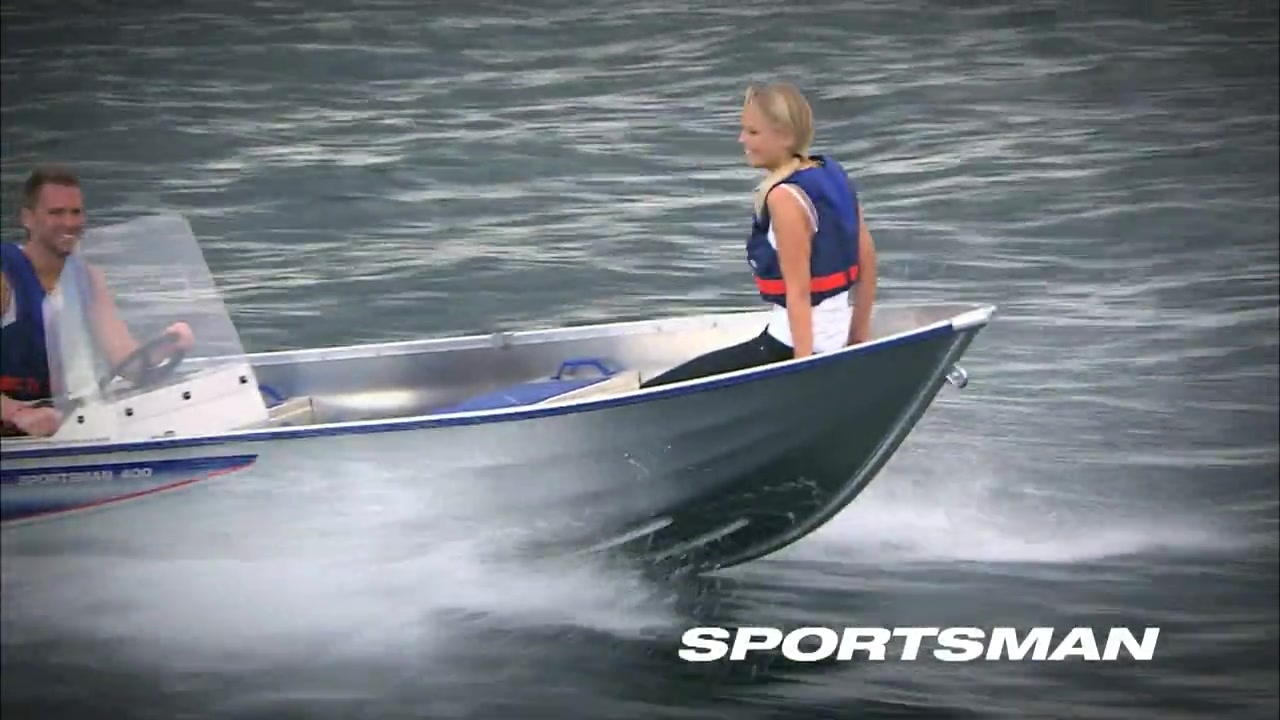boat: (2, 226, 1004, 582)
